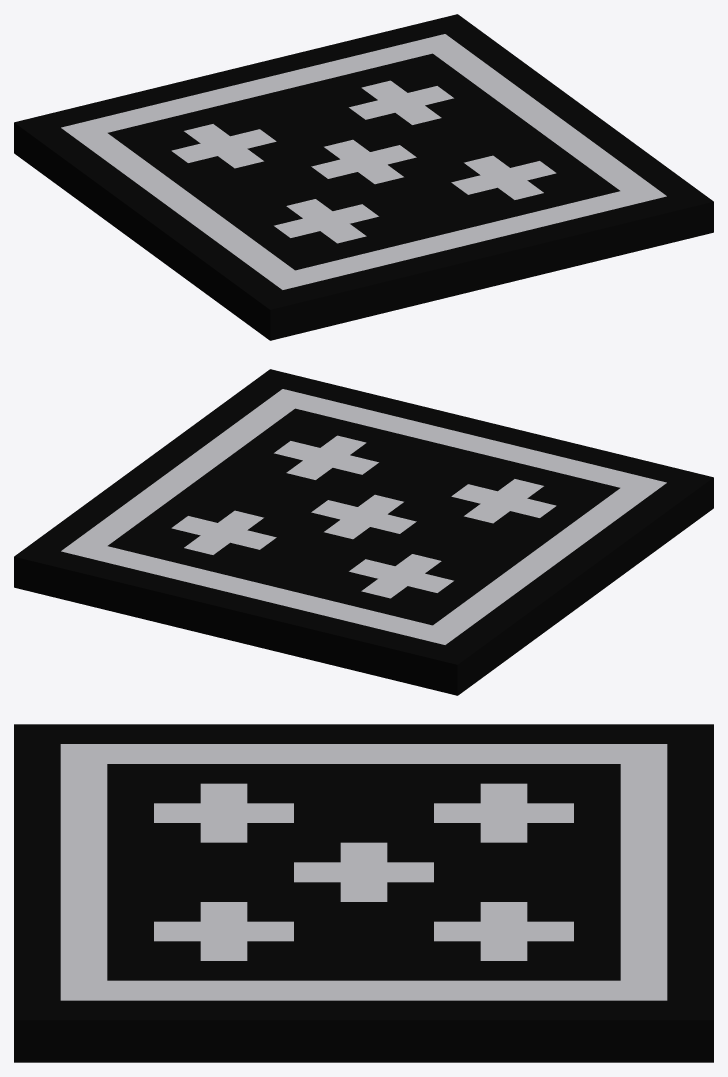
Rendered from dungeon_d_a_ground_b_b.obj.
The picture shows the model from 3 angles, top to bottom: view 1: azimuth 30°, elevation 25°; view 2: azimuth 150°, elevation 25°; view 3: azimuth 270°, elevation 25°; orthographic projection. The views are drawn at different scales.
Size of the model in its own units: 1.5 by 0.1 by 1.5.
1 material, 1 textured.
